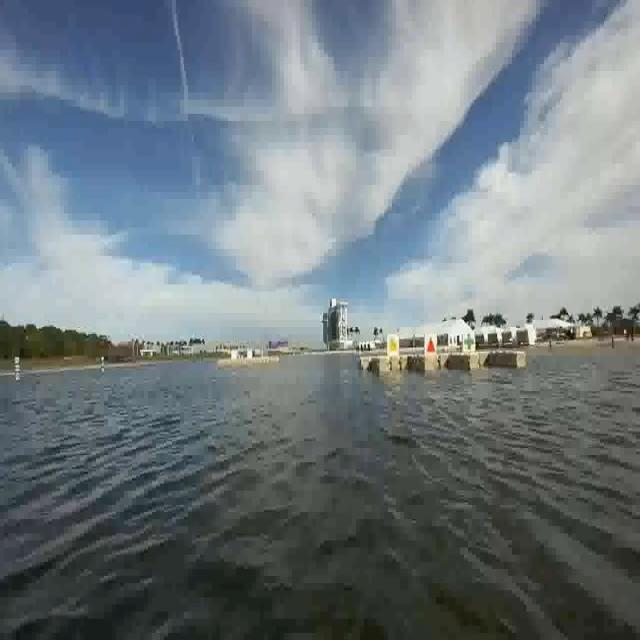blue-cross: (461, 327, 474, 353)
red-dot: (425, 333, 439, 359)
yellow-duck: (387, 332, 398, 355)
